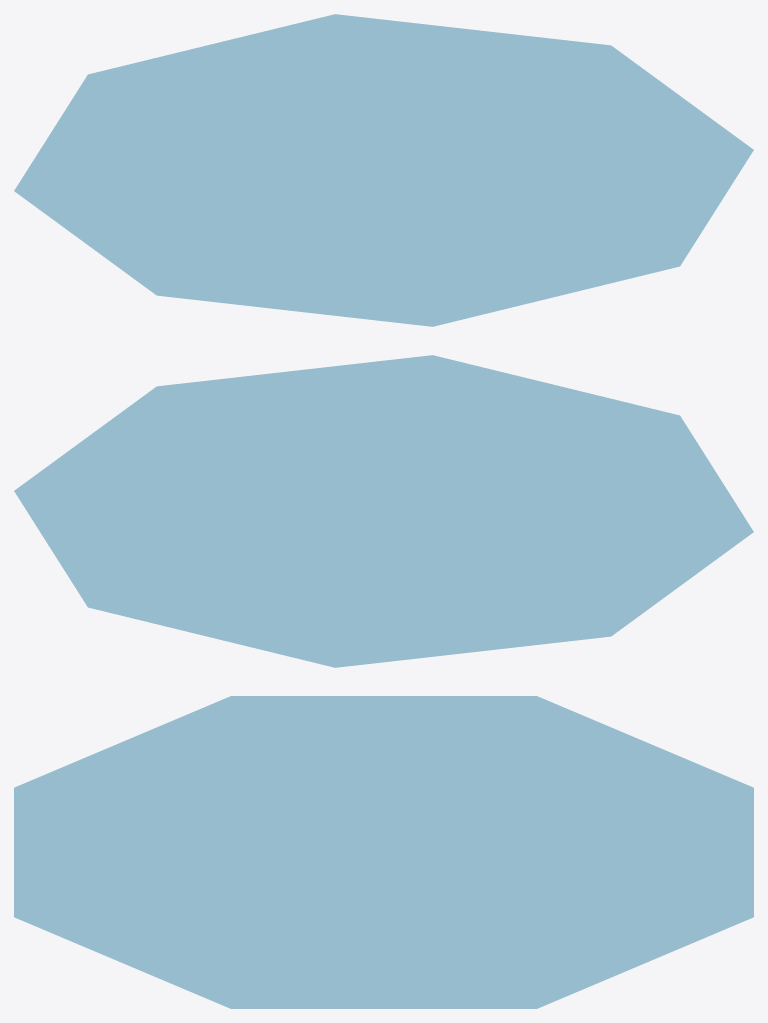
The model's file is Terrain_Water_Large.glb.
The picture shows the model from 3 angles, top to bottom: view 1: azimuth 30°, elevation 25°; view 2: azimuth 150°, elevation 25°; view 3: azimuth 270°, elevation 25°; orthographic projection. The views are drawn at different scales.
Visible parts, largest first — view 1: Terrain_Water_Large; view 2: Terrain_Water_Large; view 3: Terrain_Water_Large.
Boxes of the visible parts, bbox=[...] form: Terrain_Water_Large: bbox=[14, 14, 753, 326]; Terrain_Water_Large: bbox=[14, 355, 753, 667]; Terrain_Water_Large: bbox=[14, 696, 753, 1008].
Size of the model in its own units: 13.5 by 0 by 13.5.
